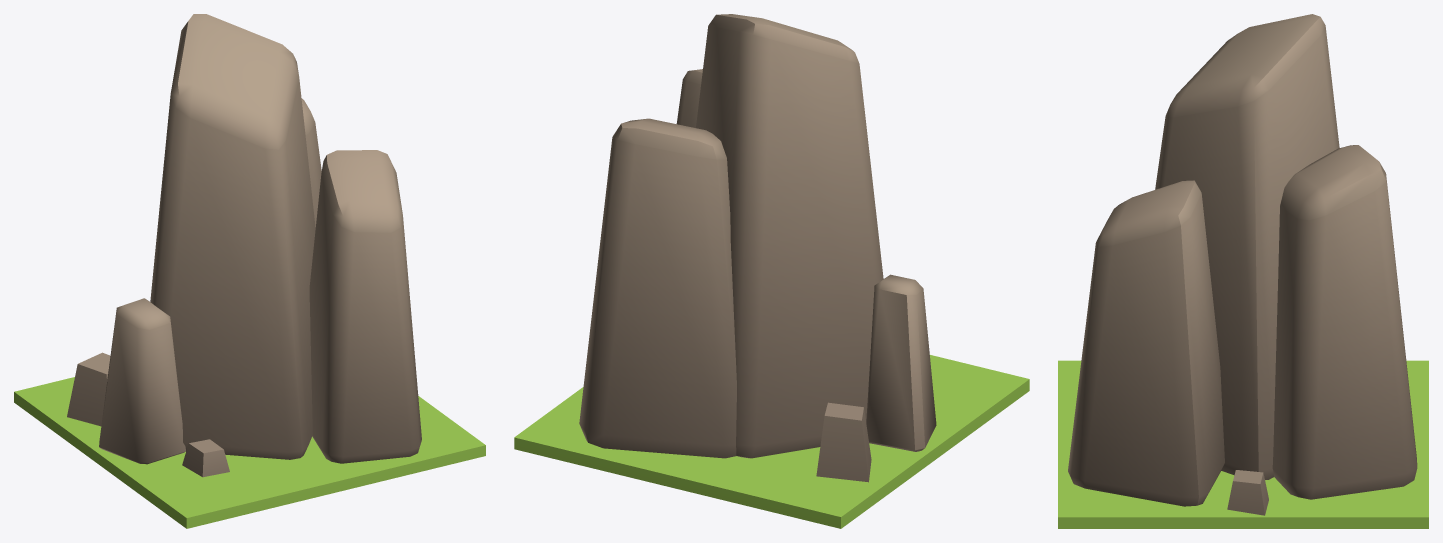
The model's file is rock.glb.
The picture shows the model from 3 angles, left to right: view 1: azimuth 30°, elevation 25°; view 2: azimuth 150°, elevation 25°; view 3: azimuth 270°, elevation 25°; orthographic projection. The views are drawn at different scales.
Visible parts, largest first — view 1: Rock; view 2: Rock; view 3: Rock.
Boxes of the visible parts, <box> form: Rock: <box>14,14,485,528</box>; Rock: <box>514,14,1029,528</box>; Rock: <box>1058,14,1428,528</box>.
Size of the model in its own units: 0.29 by 0.3649 by 0.29.
1 material, 1 textured.
